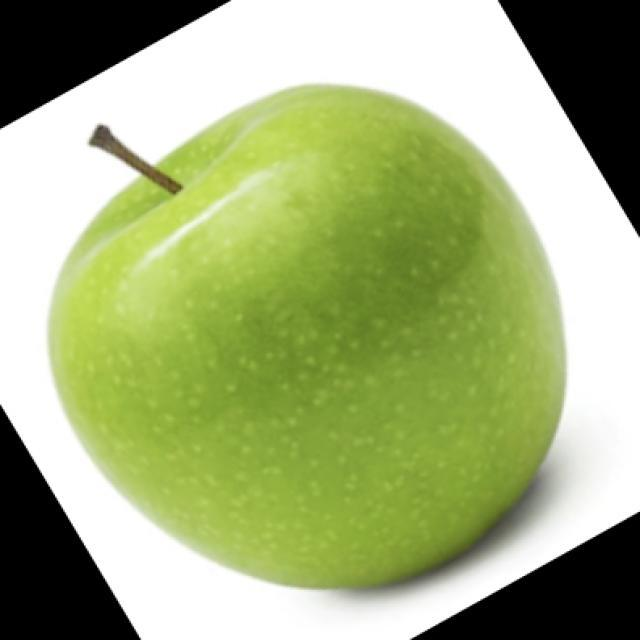Fresh Apple: (41, 74, 570, 596)
